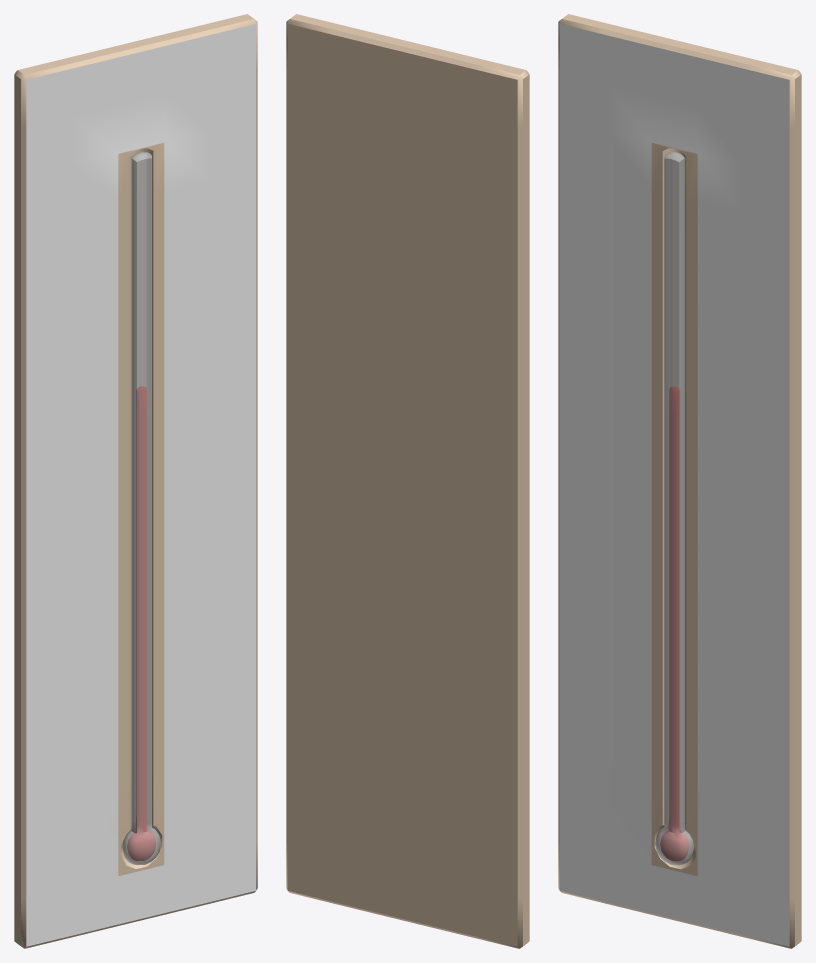
File: Thermometer.fbx
3 renders of one model, left to right at view 1: azimuth 30°, elevation 25°; view 2: azimuth 150°, elevation 25°; view 3: azimuth 330°, elevation 25°, orthographic.
Parts seen in each view (by area): view 1: Plate, Bulb, Liquid; view 2: Plate; view 3: Plate, Bulb, Liquid.
Boxes of the visible parts, <box> form: Plate: <box>14,14,257,948</box>; Bulb: <box>122,152,161,865</box>; Liquid: <box>127,386,155,860</box>; Plate: <box>286,14,529,948</box>; Plate: <box>558,14,801,948</box>; Bulb: <box>655,152,694,865</box>; Liquid: <box>660,386,688,860</box>.
Bounding box in the file's own units: 141 × 497 × 18.38.
Materials: 4 (1 with a texture image).
